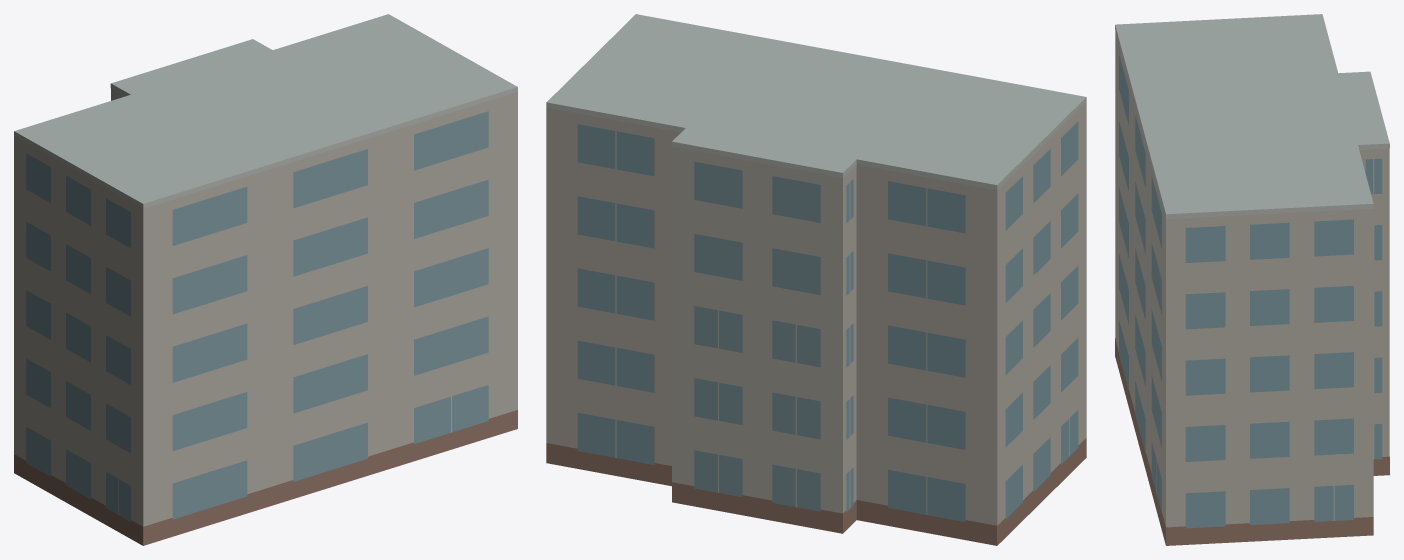
The model's file is survey-upis-32890835.glb.
3 renders of one model, left to right at view 1: azimuth 30°, elevation 25°; view 2: azimuth 150°, elevation 25°; view 3: azimuth 270°, elevation 25°, orthographic. The views are drawn at different scales.
Visible parts, largest first — view 1: survey-upis-32890835.tmp; view 2: survey-upis-32890835.tmp; view 3: survey-upis-32890835.tmp.
Part boxes in pixels (x1,y1,x2,y2): survey-upis-32890835.tmp: (14,14,517,545); survey-upis-32890835.tmp: (546,14,1086,545); survey-upis-32890835.tmp: (1115,14,1389,545).
Bounding box in the file's own units: 22.08 × 17.04 × 12.8.
